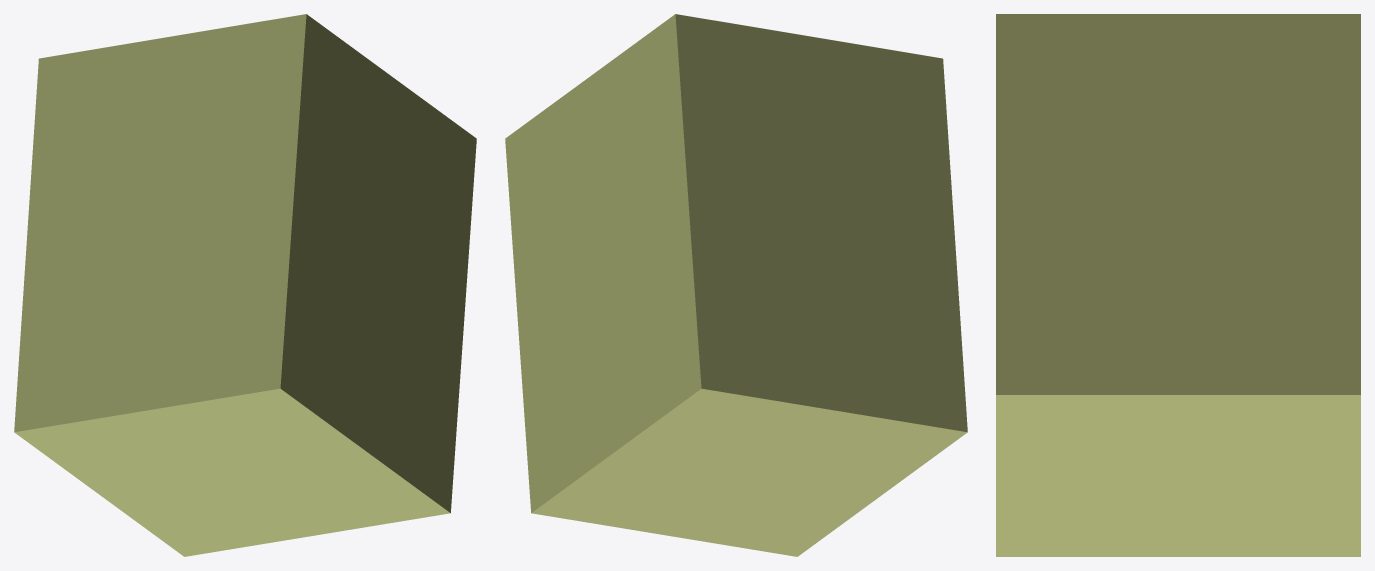
3 renders of one model, left to right at view 1: azimuth 30°, elevation 25°; view 2: azimuth 150°, elevation 25°; view 3: azimuth 270°, elevation 25°, orthographic. The views are drawn at different scales.
Visible parts, largest first — view 1: 0_1_3_2_1_1_2_2_1_1; view 2: 0_1_3_2_1_1_2_2_1_1; view 3: 0_1_3_2_1_1_2_2_1_1.
Part boxes in pixels (x1=…): 0_1_3_2_1_1_2_2_1_1: x1=14, y1=14, x2=476, y2=556; 0_1_3_2_1_1_2_2_1_1: x1=505, y1=14, x2=967, y2=556; 0_1_3_2_1_1_2_2_1_1: x1=996, y1=14, x2=1360, y2=556.
Size of the model in its own units: 5.95 by 7.56 by 6.
